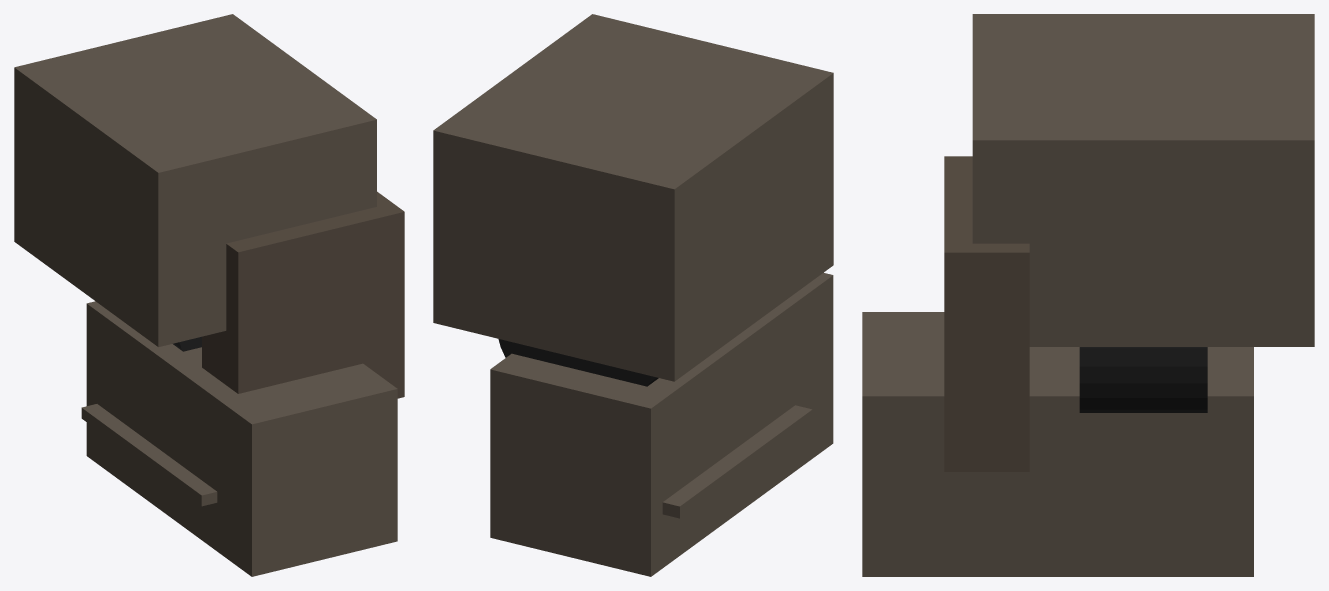
File: arm_right_vagrant_01.obj
3 renders of one model, left to right at view 1: azimuth 30°, elevation 25°; view 2: azimuth 150°, elevation 25°; view 3: azimuth 270°, elevation 25°, orthographic. The views are drawn at different scales.
Bounding box in the file's own units: 0.45 × 0.7 × 0.635.
